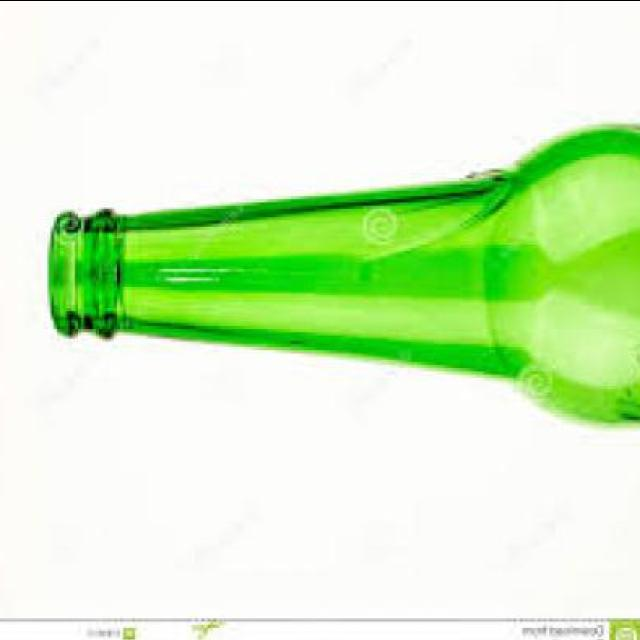kaca: (46, 120, 640, 419)
